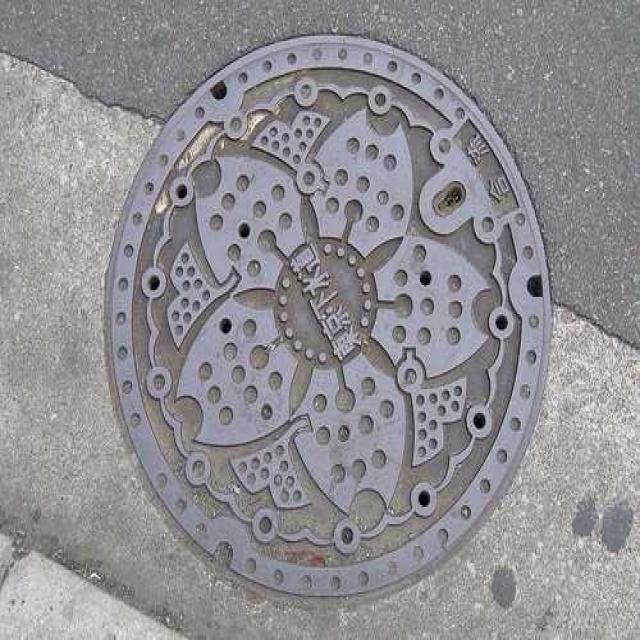manhole: (106, 37, 550, 596)
